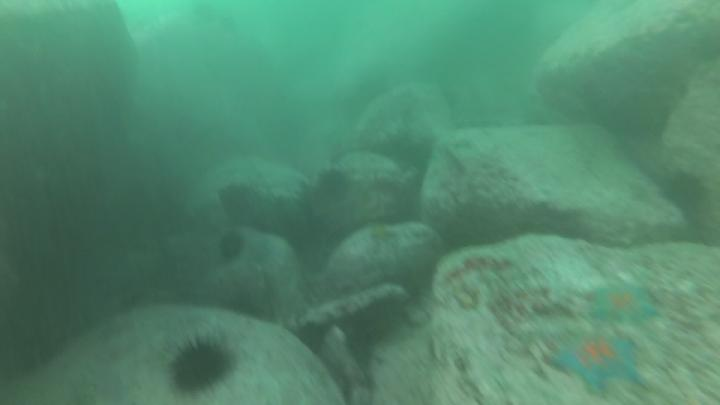echinus: (165, 334, 238, 401), (655, 169, 712, 216), (313, 166, 352, 209), (217, 181, 252, 218), (217, 227, 250, 263), (406, 142, 437, 178)
starfish: (556, 327, 646, 399), (587, 283, 661, 328), (369, 222, 400, 250)
